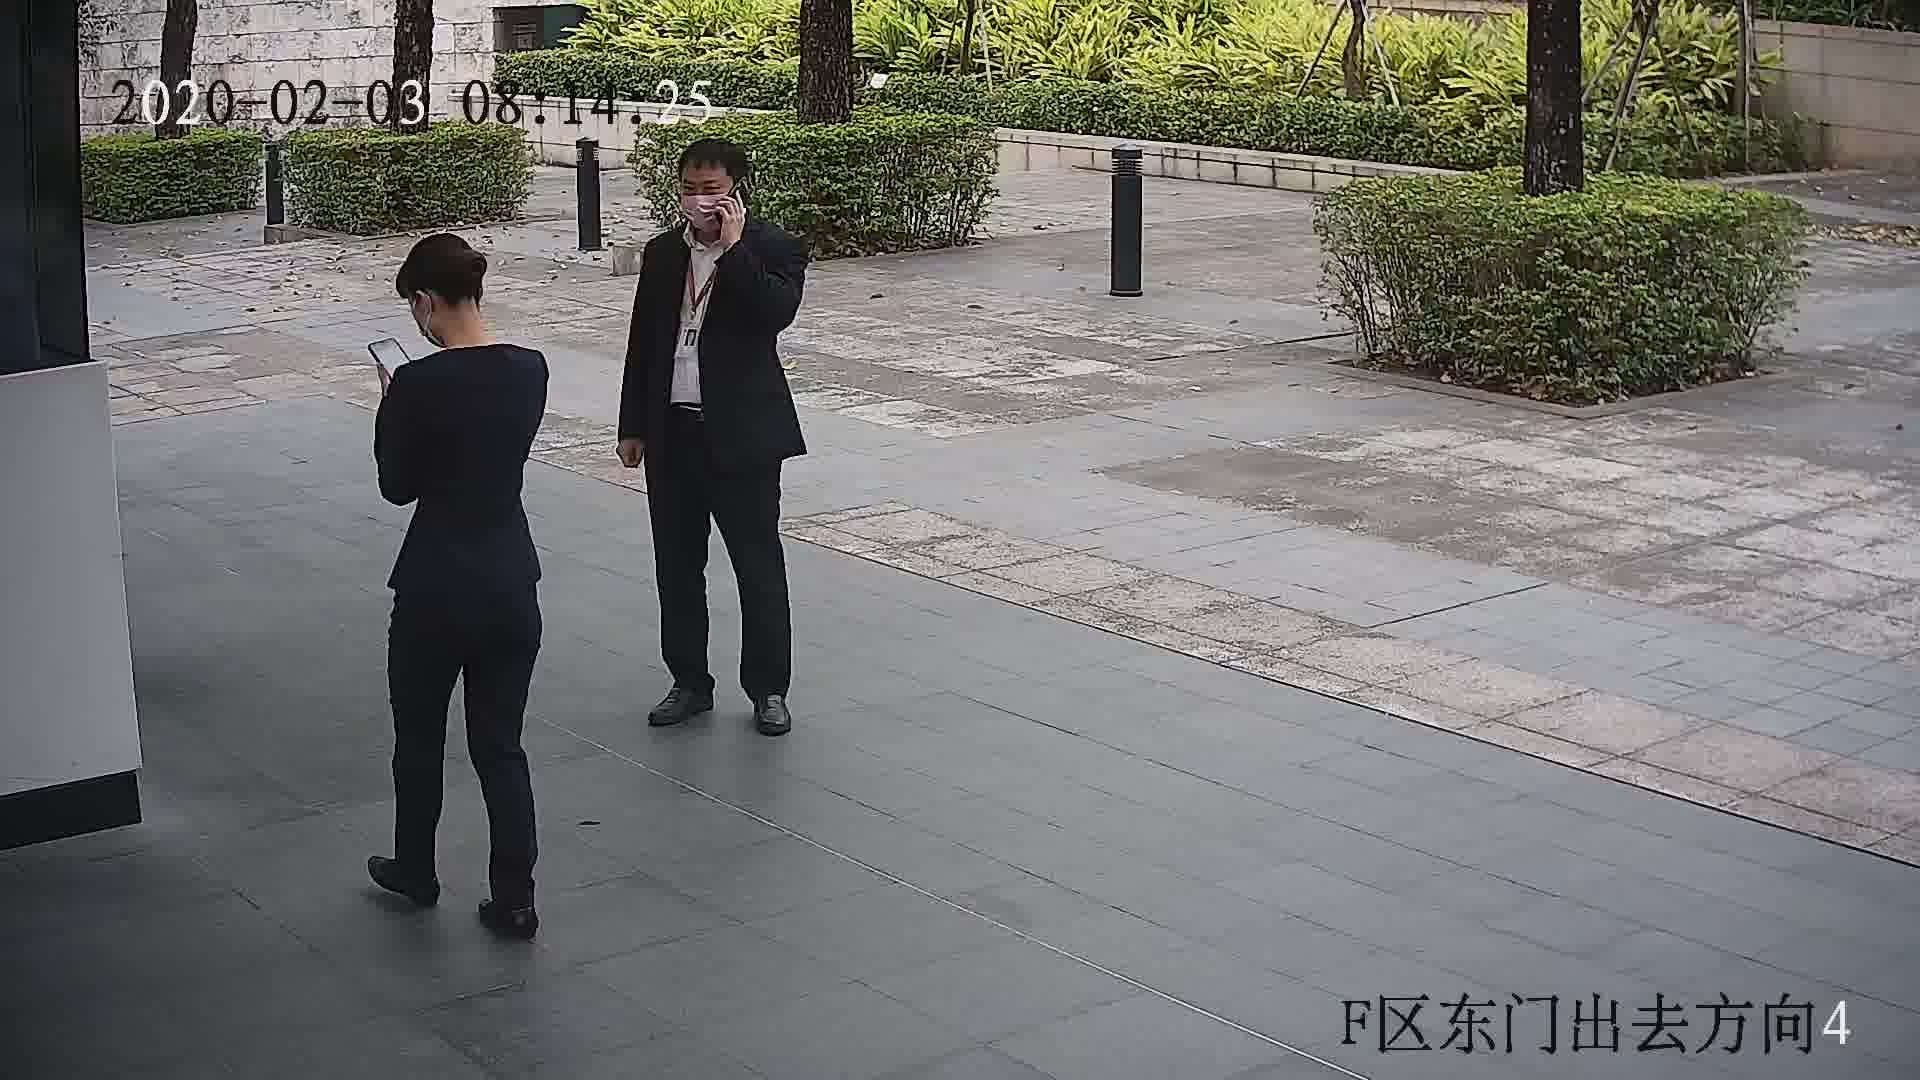face: (681, 175, 736, 230)
mask: (678, 191, 731, 230)
person: (382, 233, 553, 410), (639, 138, 803, 285)
